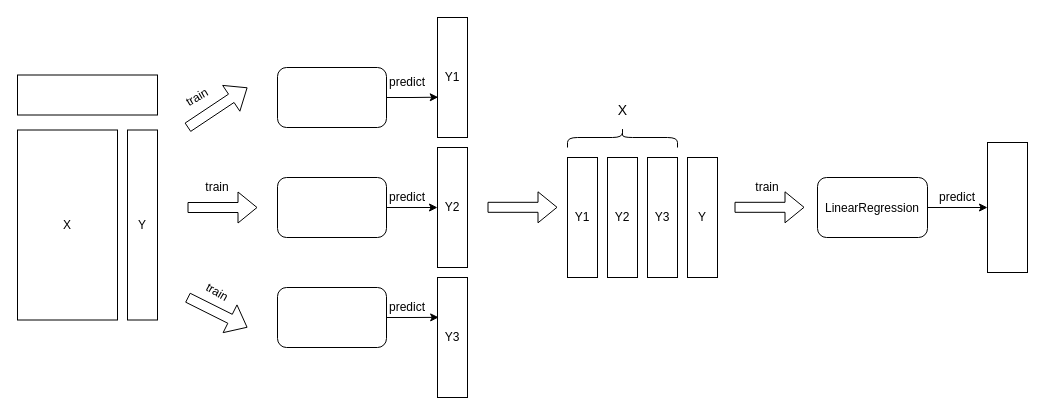
Some shapes in this 1045 by 415 pixel diagram are drawn without their labels. The shapes that lost their labels are listed below. From the top down, each one's centre as x and y in pixels, then its label:
the point at 87,94: Training Data
the point at 331,97: XGBoost
the point at 331,207: LightGBM
the point at 1007,207: Y_pre
the point at 331,317: CatBoost
